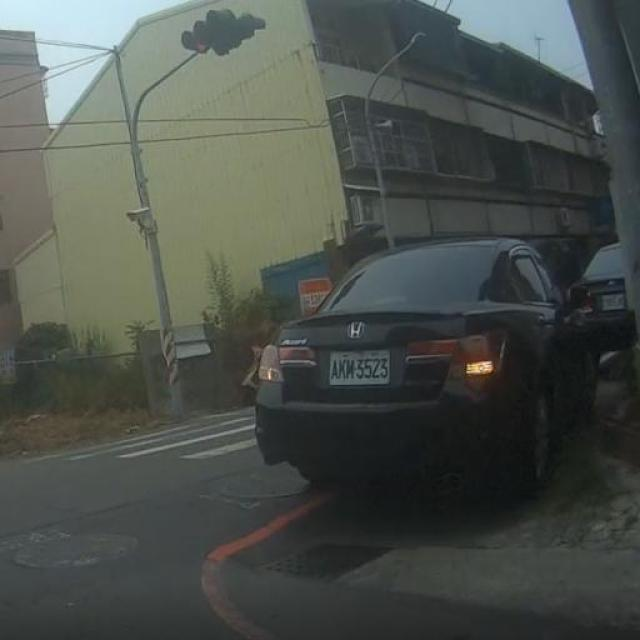illegalparking: (236, 207, 620, 527)
